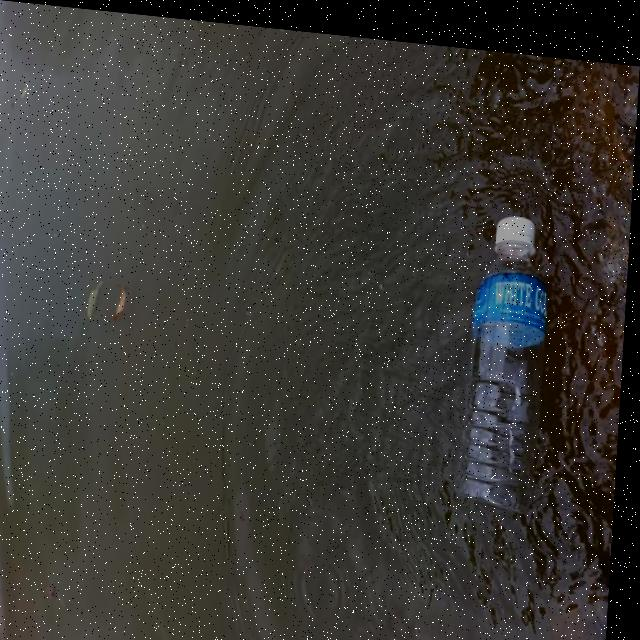leaf: (84, 258, 147, 334)
waterbottle: (464, 195, 565, 510)
